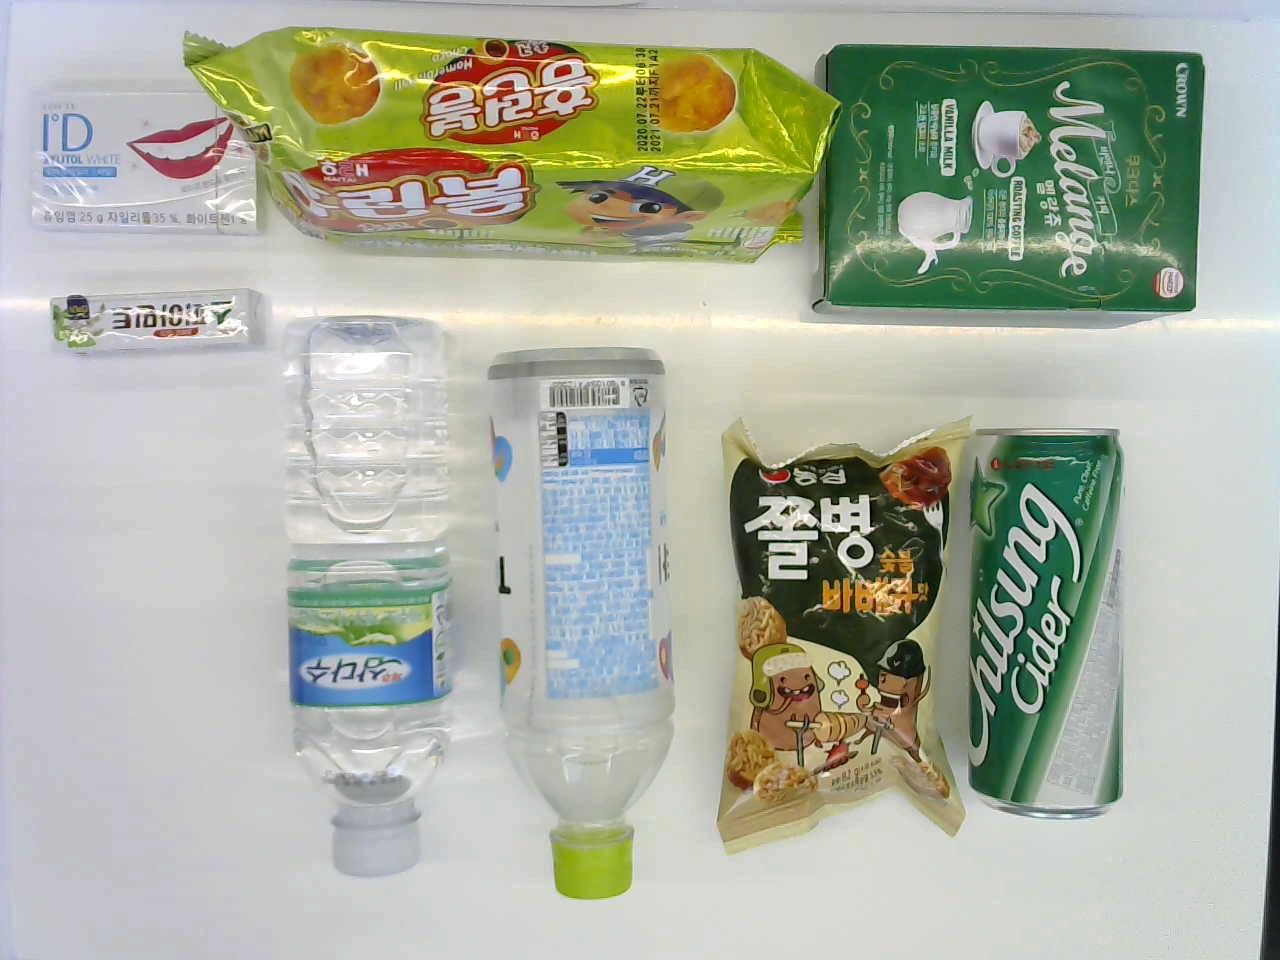ID_gum: (24, 87, 270, 238)
cidar: (959, 399, 1135, 843)
couque_coffee: (811, 32, 1229, 327)
homerunball: (180, 21, 833, 275)
jjolbyung_ori: (714, 409, 967, 889)
samdasu: (274, 306, 454, 902)
spearmint: (40, 283, 262, 371)
toreta: (474, 332, 685, 915)
